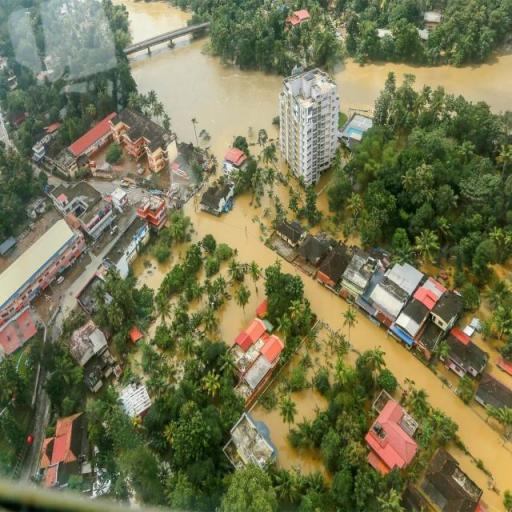flood: (350, 313, 512, 512), (183, 187, 350, 336), (130, 35, 283, 161), (334, 44, 512, 113), (33, 206, 135, 320), (251, 405, 332, 482), (217, 276, 265, 344), (116, 0, 191, 40), (131, 243, 189, 289), (474, 335, 512, 388), (288, 385, 328, 426), (311, 169, 335, 233), (459, 290, 492, 328), (274, 180, 305, 208), (494, 259, 512, 285), (89, 180, 119, 192), (92, 149, 106, 168), (124, 161, 136, 172)
house: (280, 62, 341, 192), (366, 392, 426, 478), (44, 115, 124, 179), (112, 110, 178, 171), (424, 446, 484, 512), (44, 404, 90, 479), (395, 276, 444, 346), (112, 216, 152, 284), (372, 258, 419, 313), (449, 334, 487, 385), (238, 318, 280, 358), (199, 182, 233, 216), (318, 250, 346, 288), (284, 5, 314, 37), (434, 292, 458, 332), (274, 220, 308, 248), (223, 148, 247, 174), (424, 10, 444, 34)
